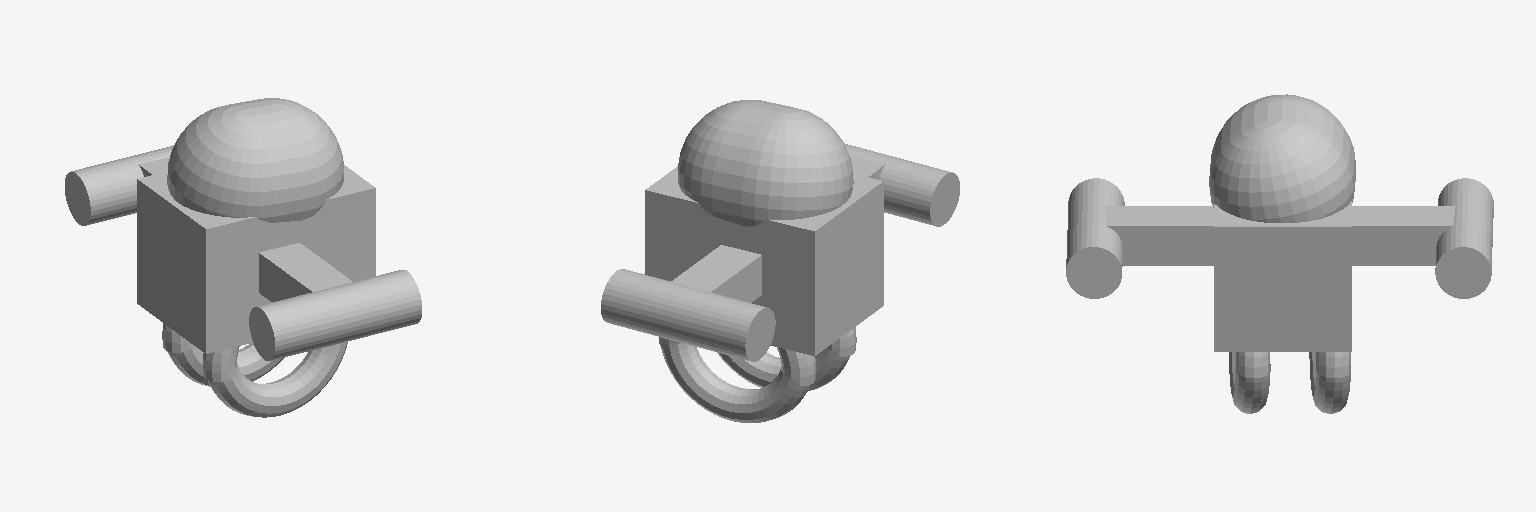
File: Robo cannon.obj
The picture shows the model from 3 angles: view 1: azimuth 30°, elevation 25°; view 2: azimuth 150°, elevation 25°; view 3: azimuth 270°, elevation 25°; orthographic projection.
Parts seen in each view (by area): view 1: Cube_Cube.001, Sphere, Cylinder_Cylinder.004, Torus.001, Cylinder.001_Cylinder.005, Cube.001_Cube.002, Torus.000_Torus.002; view 2: Cube_Cube.001, Sphere, Cylinder.001_Cylinder.005, Torus.000_Torus.002, Cylinder_Cylinder.004, Cube.002_Cube.003, Torus.001; view 3: Cube_Cube.001, Sphere, Cube.001_Cube.002, Cylinder.001_Cylinder.005, Cylinder_Cylinder.004, Cube.002_Cube.003, Torus.000_Torus.002, Torus.001.
Part boxes in pixels (x1,y1,x2,y2): Cube_Cube.001: (137,165,375,353); Sphere: (167,98,343,222); Cylinder_Cylinder.004: (249,270,421,360); Torus.001: (203,342,347,417); Cylinder.001_Cylinder.005: (65,145,173,225); Cube.001_Cube.002: (259,243,352,301); Torus.000_Torus.002: (162,323,284,386); Cube_Cube.001: (645,166,883,355); Sphere: (678,100,853,226); Cylinder.001_Cylinder.005: (601,269,775,361); Torus.000_Torus.002: (659,337,815,422); Cylinder_Cylinder.004: (844,143,959,226); Cube.002_Cube.003: (671,245,761,302); Torus.001: (717,327,856,391); Cube_Cube.001: (1214,201,1351,351); Sphere: (1209,94,1355,222); Cube.001_Cube.002: (1105,206,1213,265); Cylinder.001_Cylinder.005: (1435,178,1493,298); Cylinder_Cylinder.004: (1066,178,1124,298); Cube.002_Cube.003: (1352,206,1455,265); Torus.000_Torus.002: (1309,352,1350,413); Torus.001: (1229,352,1270,413).
Size of the model in its own units: 2.92 by 4.74 by 6.21.